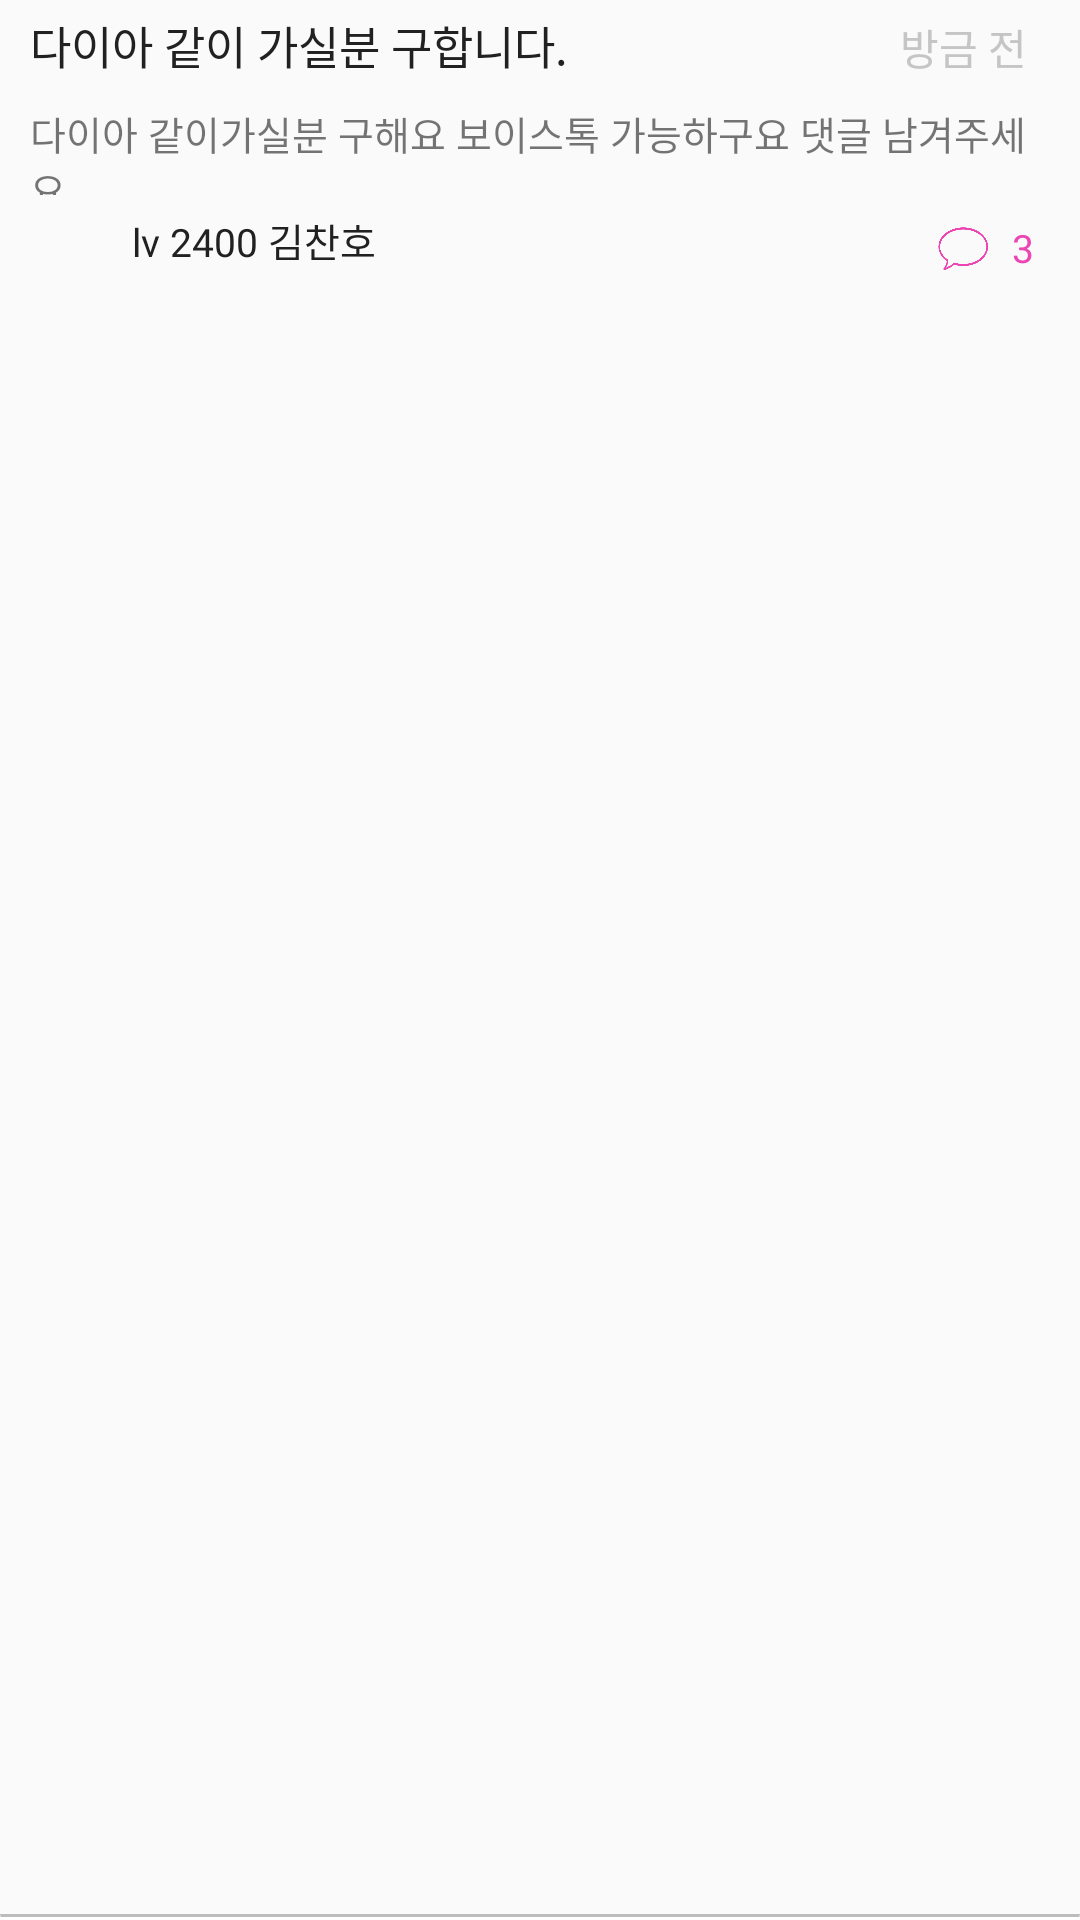

Icon bounding boxes for this 1080px x 1920px phone screenshot, format (x1, y1, x2, y2):
comment: (938, 227, 988, 270)
